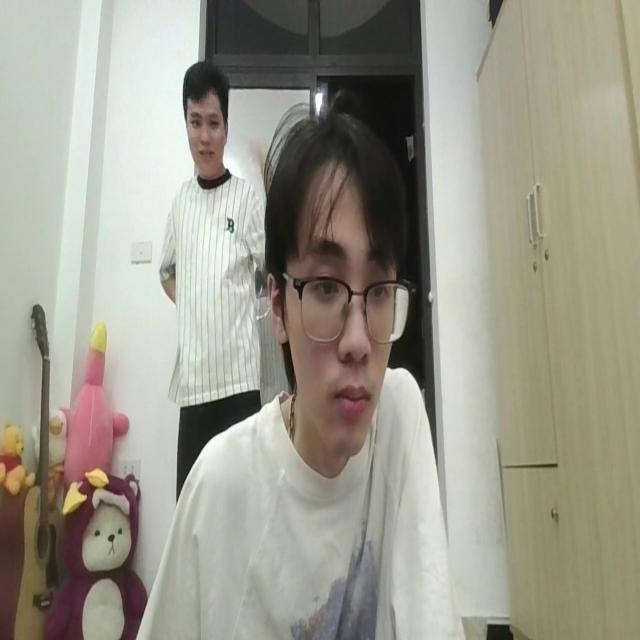extra_person: (158, 63, 271, 421)
student: (132, 102, 462, 640)
